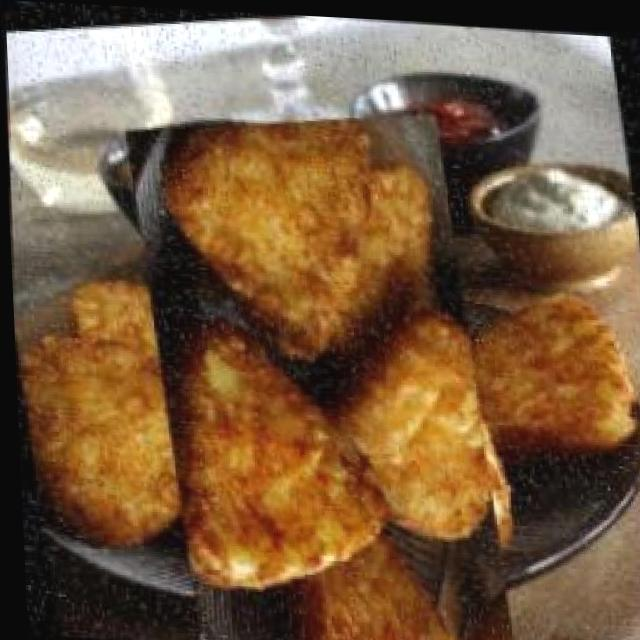triangle_hash_brown: (58, 142, 578, 640)
